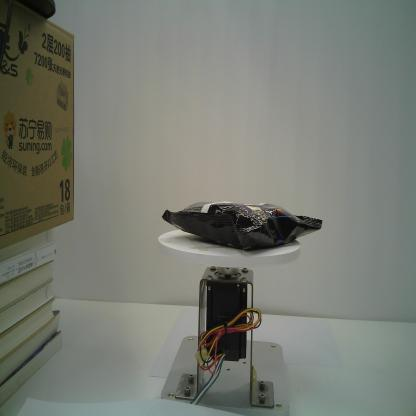Instant Noodles: (162, 199, 326, 252)
